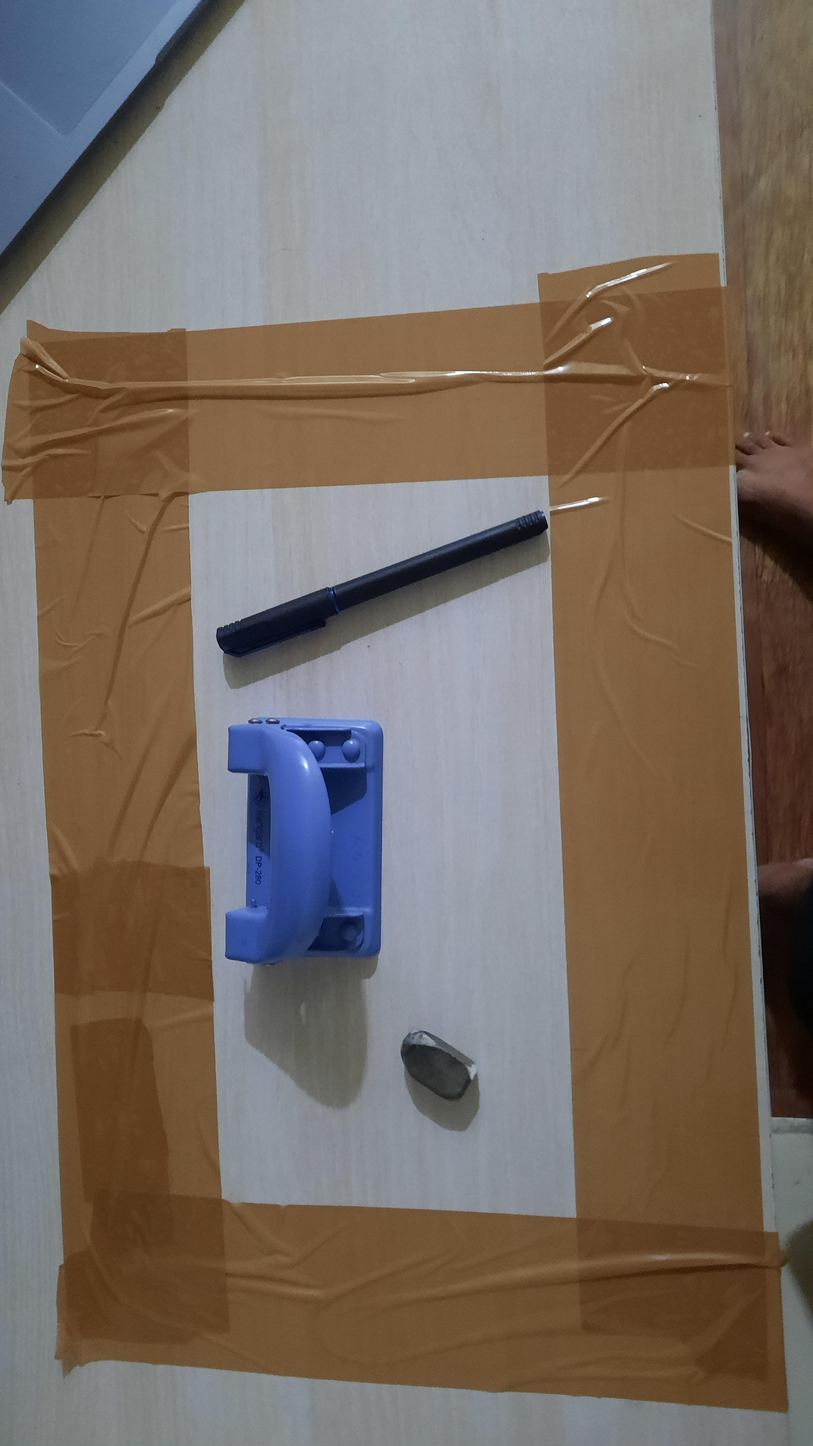Eraser: (401, 1030, 477, 1101)
Pen: (215, 508, 549, 658)
Punch: (224, 716, 384, 967)
